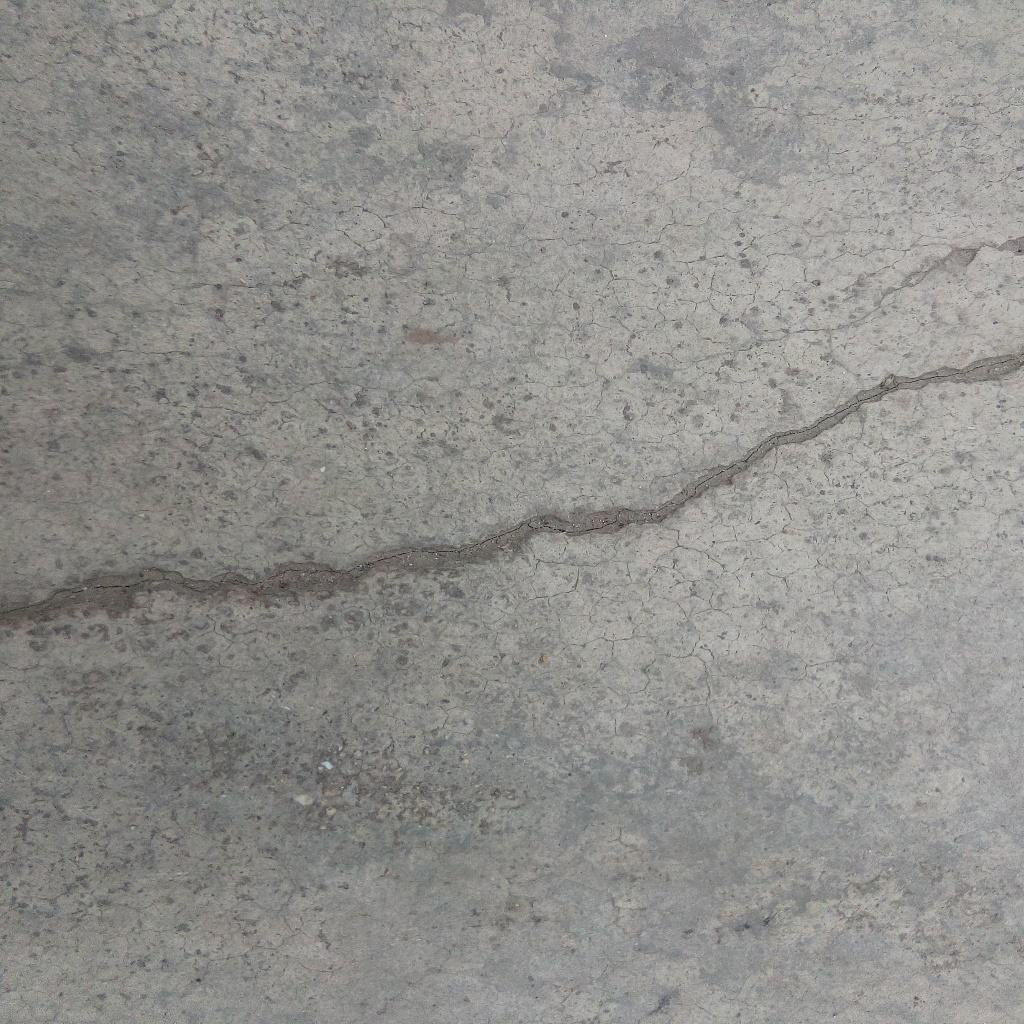Crack: (1, 352, 1024, 630)
